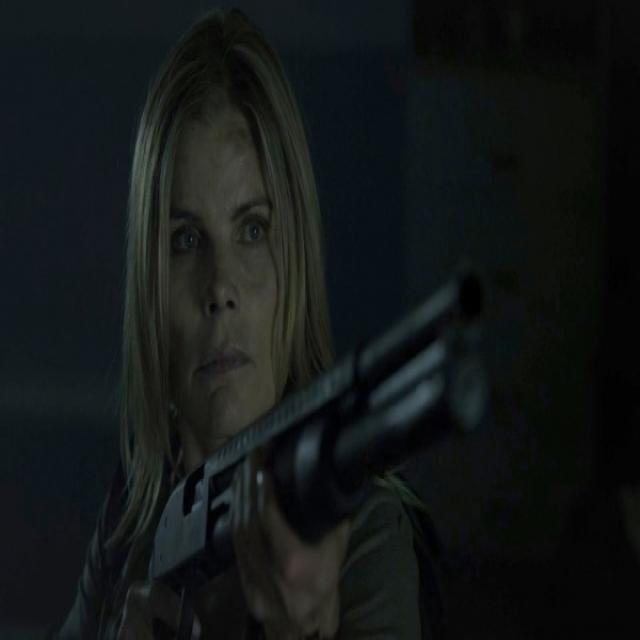rifle: (135, 260, 503, 614)
